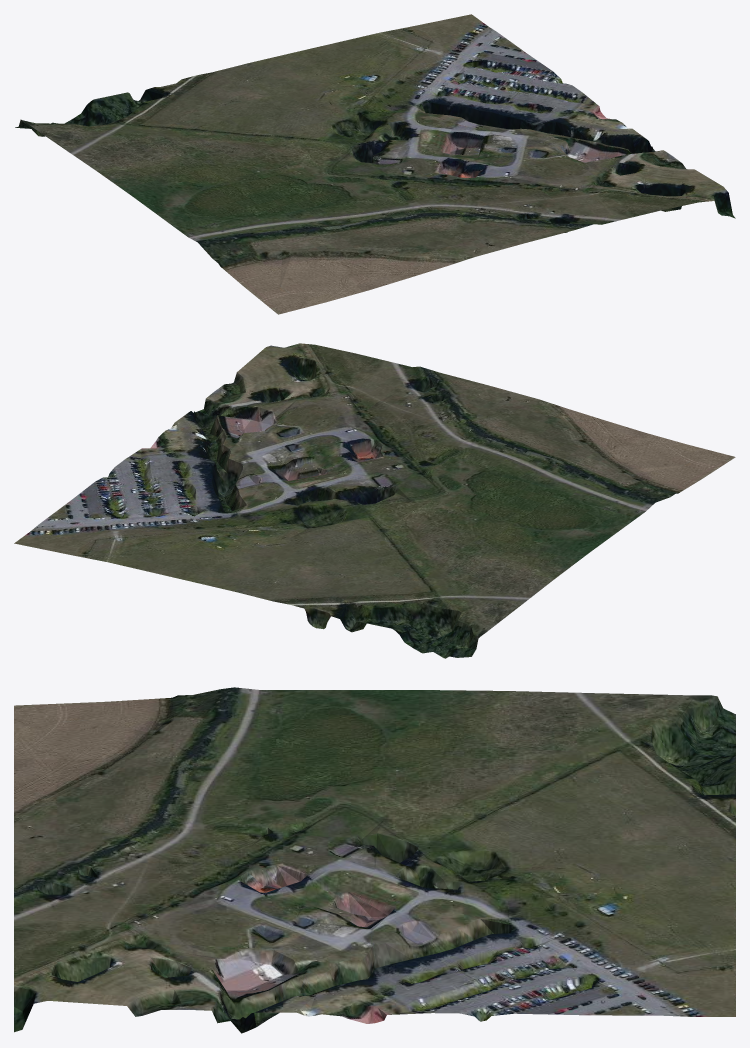
Rendered from map_13_2042_3446.dae.
3 views of the same model, one above another, from view 1: azimuth 30°, elevation 25°; view 2: azimuth 150°, elevation 25°; view 3: azimuth 270°, elevation 25° (orthographic). The views are drawn at different scales.
Parts seen in each view (by area): view 1: Ter0; view 2: Ter0; view 3: Ter0.
Boxes of the visible parts, x1,y1,x2,y2 form: Ter0: [15, 14, 735, 314]; Ter0: [14, 343, 735, 658]; Ter0: [14, 687, 735, 1033].
Size of the model in its own units: 256 by 256 by 21.76.
2 materials, 2 textured.
